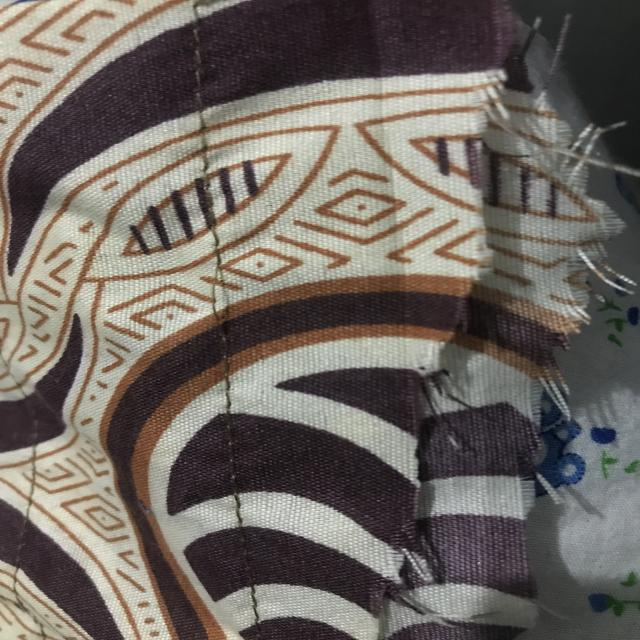skip: (180, 243, 255, 337)
